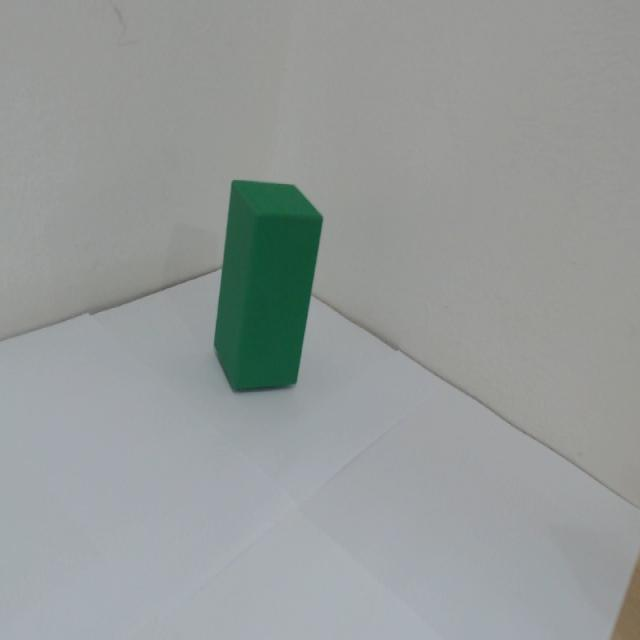cube: (172, 114, 366, 478)
